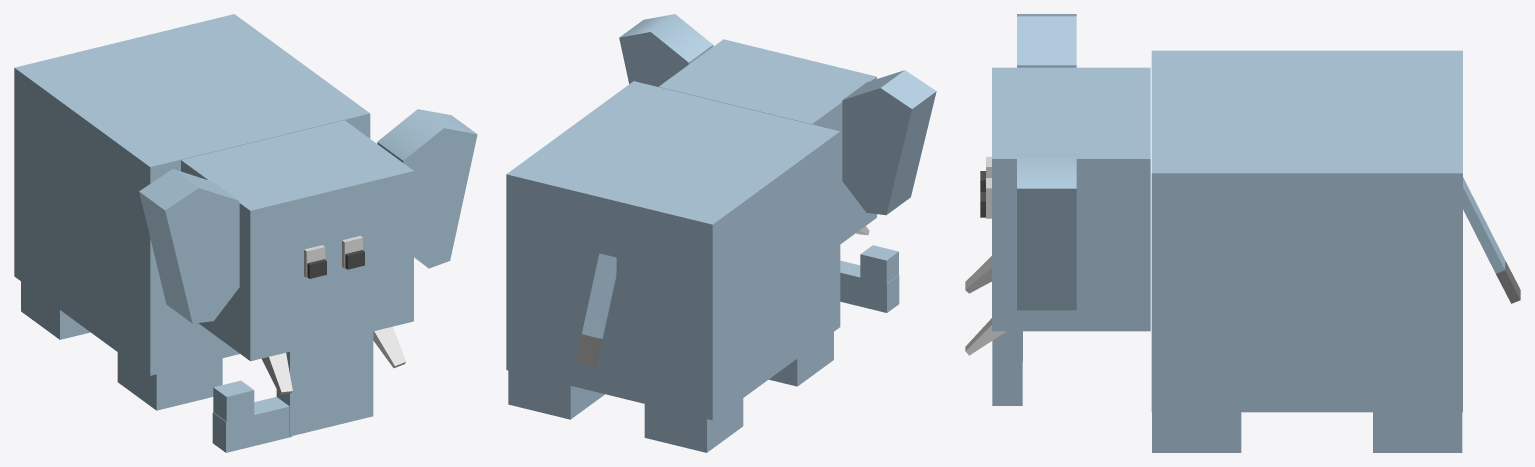
Rendered from Elephant2_Final.fbx.
The picture shows the model from 3 angles, left to right: view 1: azimuth 30°, elevation 25°; view 2: azimuth 150°, elevation 25°; view 3: azimuth 270°, elevation 25°; orthographic projection. The views are drawn at different scales.
Visible parts, largest first — view 1: pCube1, Head, R_Ear, L_Ear, pCube10, pCube3, pCube26, pCube4, pCube27, R_Horn, L_Horn; view 2: pCube1, Head, R_Ear, L_Ear, pCube4, pCube29, Tail, pCube26, pCube3, pCube27; view 3: pCube1, Head, L_Ear, pCube29, pCube2, R_Ear, pCube10, Tail, L_Horn.
Part boxes in pixels (box(x1,y1,x2,y2)): pCube1: box(14, 14, 370, 375); Head: box(181, 120, 413, 361); R_Ear: box(139, 169, 239, 323); L_Ear: box(377, 109, 477, 268); pCube10: box(276, 331, 373, 436); pCube3: box(117, 352, 222, 410); pCube26: box(212, 397, 292, 452); pCube4: box(21, 281, 90, 339); pCube27: box(213, 380, 254, 422); R_Horn: box(262, 352, 292, 394); L_Horn: box(373, 326, 405, 367); pCube1: box(506, 81, 840, 420); Head: box(659, 39, 876, 244); R_Ear: box(842, 70, 936, 215); L_Ear: box(619, 14, 713, 86); pCube4: box(644, 398, 743, 452); pCube29: box(508, 370, 604, 419); Tail: box(575, 253, 616, 367); pCube26: box(840, 260, 899, 312); pCube3: box(769, 332, 833, 386); pCube27: box(860, 245, 898, 283); pCube1: box(1151, 50, 1462, 412); Head: box(992, 67, 1150, 331); L_Ear: box(1017, 153, 1076, 310); pCube29: box(1373, 412, 1462, 452); pCube2: box(1152, 412, 1241, 452); R_Ear: box(1017, 14, 1076, 67); pCube10: box(992, 331, 1022, 405); Tail: box(1463, 177, 1520, 303); L_Horn: box(965, 318, 1006, 355).
Bounding box in the file's own units: 21.34 × 17.62 × 28.71.
